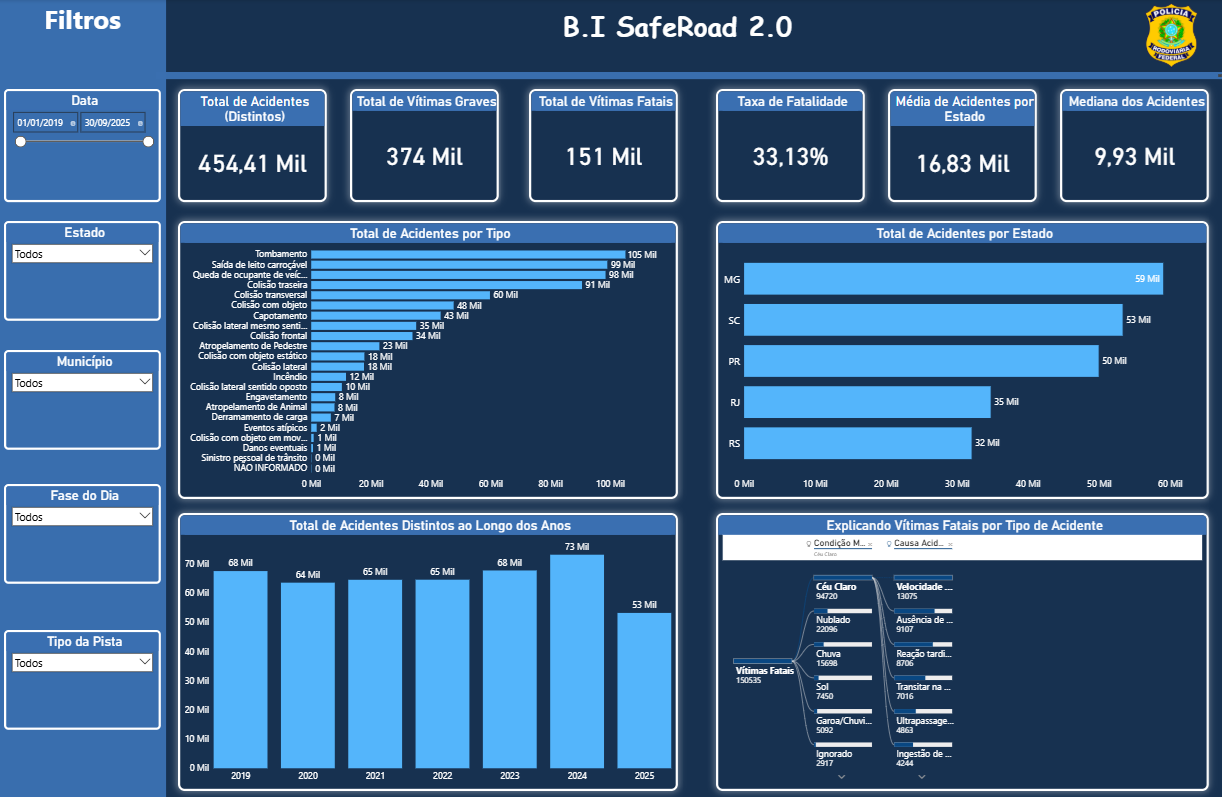

What the dashboard file says about the page in this screenshot:
{"tool":"powerbi","page":{"name":"Visão Geral","canvas":[2750,1800],"ordinal":0},"visuals":[{"type":"textbox","box":[352.4,163.8,2397,15.7],"z":0},{"type":"image","box":[2513.7,4.5,235.7,154.9],"z":1},{"type":"textbox","box":[1225.4,13.5,594.8,136.9],"z":2},{"type":"card","title":"Total de Acidentes (Distintos)","fields":{"Values":["Medidas.-- ocorrências únicas (acidentes)Acidentes (Ocorrências)"]},"box":[401.7,202,334.4,253.6],"z":3},{"type":"lineClusteredColumnComboChart","title":"Total de Acidentes Distintos ao Longo dos Anos","fields":{"Category":["public dim_tempo.ano"],"Y":["Medidas.-- ocorrências únicas (acidentes)Acidentes (Ocorrências)"]},"box":[401.7,1153.6,1122.2,623.9],"z":4},{"type":"card","title":"Total de Vítimas Graves","fields":{"Values":["Medidas.Vítimas Graves"]},"box":[787.8,202,334.4,253.6],"z":5},{"type":"card","title":"Total de Vítimas Fatais","fields":{"Values":["Medidas.vítimas_fatais"]},"box":[1189.5,202,334.4,253.6],"z":6},{"type":"card","title":"Taxa de Fatalidade ","fields":{"Values":["Medidas.Taxa Mortalidade (%)"]},"box":[1609.2,202,334.4,253.6],"z":7},{"type":"card","title":"Média de Acidentes por Estado","fields":{"Values":["Medidas.Média Acidentes por Estado"]},"box":[1995.3,202,334.4,253.6],"z":8},{"type":"textbox","box":[0,0,374.8,1800],"z":9},{"type":"clusteredBarChart","title":"Total de Acidentes por Tipo","fields":{"Y":["Medidas.-- ocorrências únicas (acidentes)Acidentes (Ocorrências)"],"Category":["public dim_acidente.tipo_acidente"]},"box":[401.7,498.3,1122.2,623.9],"z":10},{"type":"slicer","title":"Data","fields":{"Values":["public dim_tempo.data_completa"]},"box":[11.2,202,352.4,253.6],"z":11},{"type":"slicer","title":"Estado","fields":{"Values":["public dim_localidade.uf"]},"box":[11.2,498.3,352.4,224.4],"z":12},{"type":"slicer","title":"Município","fields":{"Values":["public dim_localidade.municipio"]},"box":[11.2,787.8,352.4,224.4],"z":13},{"type":"slicer","title":"Fase do Dia","fields":{"Values":["public dim_tempo.fase_dia"]},"box":[11.2,1088.5,352.4,224.4],"z":14},{"type":"slicer","title":"Tipo da Pista","fields":{"Values":["public dim_pista.tipo_pista"]},"box":[11.2,1416.2,352.4,224.4],"z":15},{"type":"textbox","box":[0,0,374.8,136.9],"z":16},{"type":"clusteredBarChart","title":"Total de Acidentes por Estado","fields":{"Y":["Medidas.-- ocorrências únicas (acidentes)Acidentes (Ocorrências)"],"Category":["public dim_localidade.uf"]},"box":[1609.2,498.3,1106.5,623.9],"z":17},{"type":"decompositionTreeVisual","title":"Explicando Vítimas Fatais por Tipo de Acidente","fields":{"Analyze":["Medidas.vítimas_fatais"],"ExplainBy":["public dim_cnd_meteorologica.cnd_meteorologica","public dim_acidente.causa_acidente"]},"box":[1609.2,1153.6,1106.5,623.9],"z":18},{"type":"card","title":"Mediana dos Acidentes","fields":{"Values":["Medidas.Mediana de Acidentes (UF)"]},"box":[2381.3,202,334.4,253.6],"z":19}]}

Visuals, with their boxes in screenshot pixels (x1, y1, x2, y2), scaled from the page's 2750x1800 canvas onto the 1222x797 screenshot:
textbox: box(157, 73, 1221, 79)
image: box(1117, 2, 1221, 71)
textbox: box(545, 6, 809, 67)
"Total de Acidentes (Distintos)" card: box(179, 89, 327, 202)
"Total de Acidentes Distintos ao Longo dos Anos" lineClusteredColumnComboChart: box(179, 511, 677, 787)
"Total de Vítimas Graves" card: box(350, 89, 499, 202)
"Total de Vítimas Fatais" card: box(529, 89, 677, 202)
"Taxa de Fatalidade " card: box(715, 89, 864, 202)
"Média de Acidentes por Estado" card: box(887, 89, 1035, 202)
textbox: box(0, 0, 167, 796)
"Total de Acidentes por Tipo" clusteredBarChart: box(179, 221, 677, 497)
"Data" slicer: box(5, 89, 162, 202)
"Estado" slicer: box(5, 221, 162, 320)
"Município" slicer: box(5, 349, 162, 448)
"Fase do Dia" slicer: box(5, 482, 162, 581)
"Tipo da Pista" slicer: box(5, 627, 162, 726)
textbox: box(0, 0, 167, 61)
"Total de Acidentes por Estado" clusteredBarChart: box(715, 221, 1207, 497)
"Explicando Vítimas Fatais por Tipo de Acidente" decompositionTreeVisual: box(715, 511, 1207, 787)
"Mediana dos Acidentes" card: box(1058, 89, 1207, 202)
